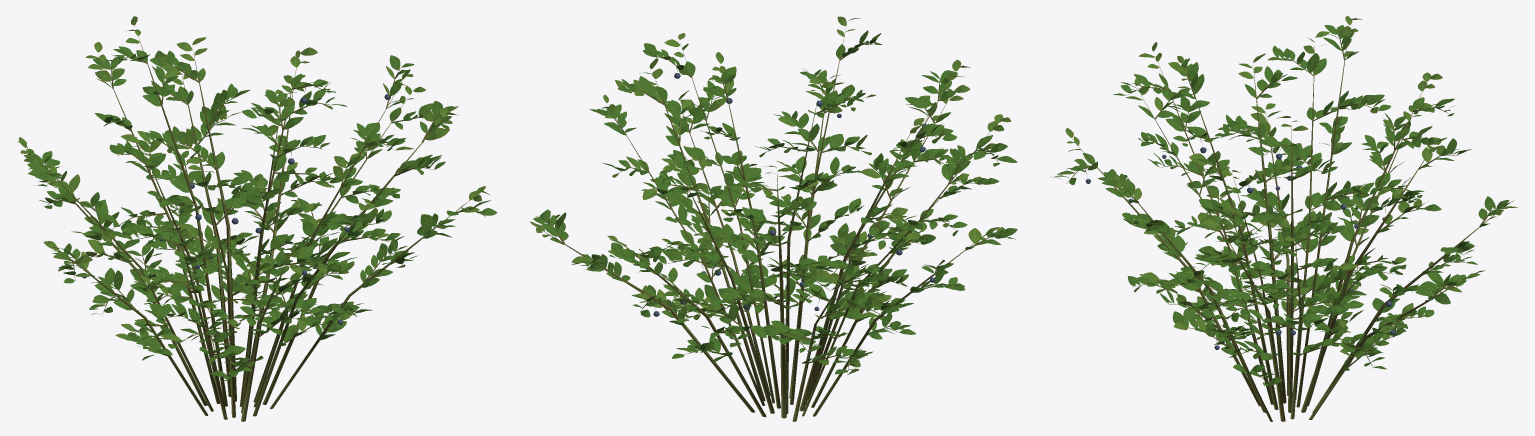
The model's file is bilberry.glb.
3 views of the same model, side by side, from view 1: azimuth 30°, elevation 25°; view 2: azimuth 150°, elevation 25°; view 3: azimuth 270°, elevation 25° (orthographic). The views are drawn at different scales.
Parts seen in each view (by area): view 1: Bilberry; view 2: Bilberry; view 3: Bilberry.
Part boxes in pixels (<box>): Bilberry: <box>17,16,497,421</box>; Bilberry: <box>530,16,1017,421</box>; Bilberry: <box>1052,16,1517,421</box>.
Size of the model in its own units: 0.7871 by 0.6785 by 0.8011.
Materials: 3 (3 with a texture image).
